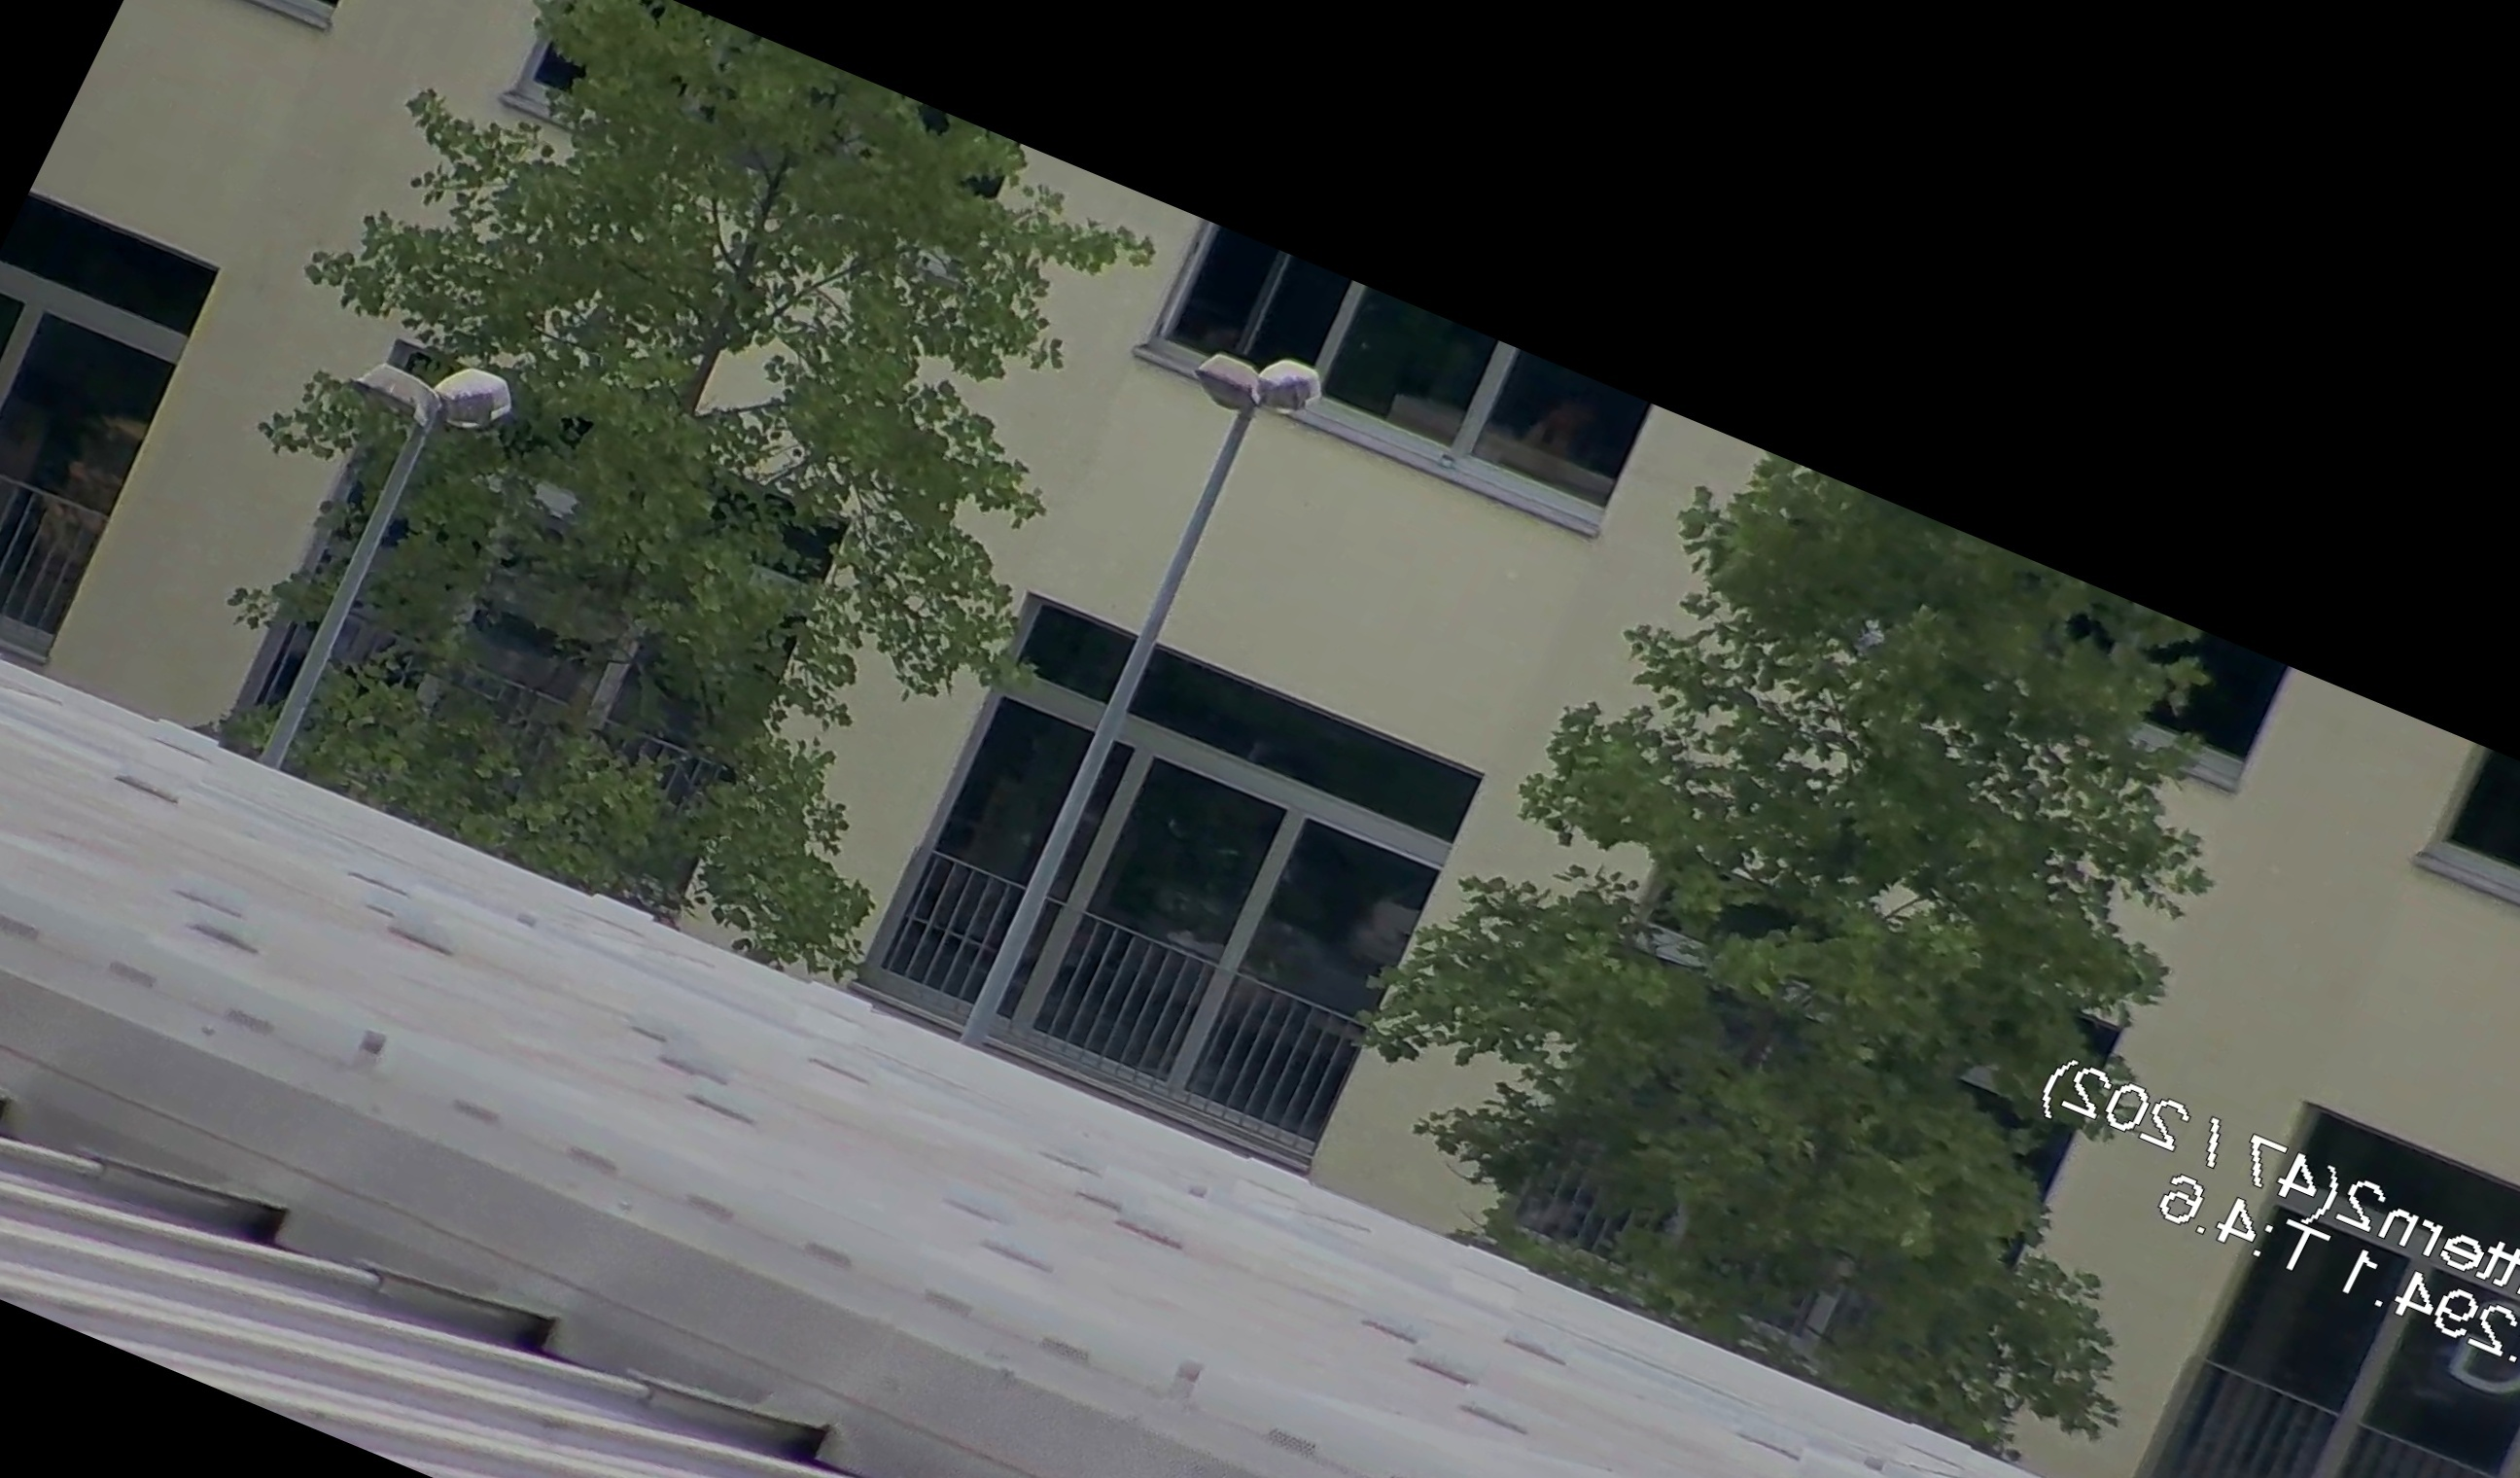Other: (1122, 290, 1345, 447)
